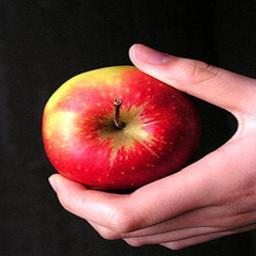apple: (41, 66, 200, 194)
